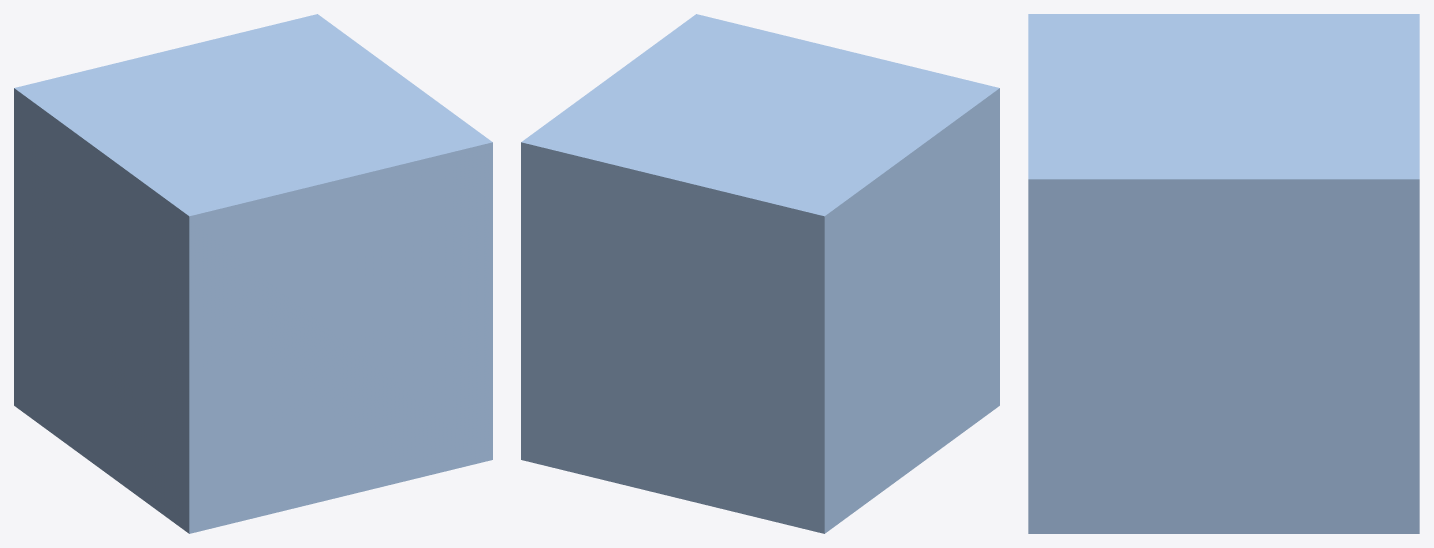
The picture shows the model from 3 angles, left to right: view 1: azimuth 30°, elevation 25°; view 2: azimuth 150°, elevation 25°; view 3: azimuth 270°, elevation 25°; orthographic projection. The views are drawn at different scales.
Parts seen in each view (by area): view 1: Skybox; view 2: Skybox; view 3: Skybox.
Part boxes in pixels (bbox=[...]): Skybox: bbox=[14, 14, 492, 533]; Skybox: bbox=[521, 14, 999, 533]; Skybox: bbox=[1028, 14, 1419, 533].
Bounding box in the file's own units: 200 × 200 × 200.
